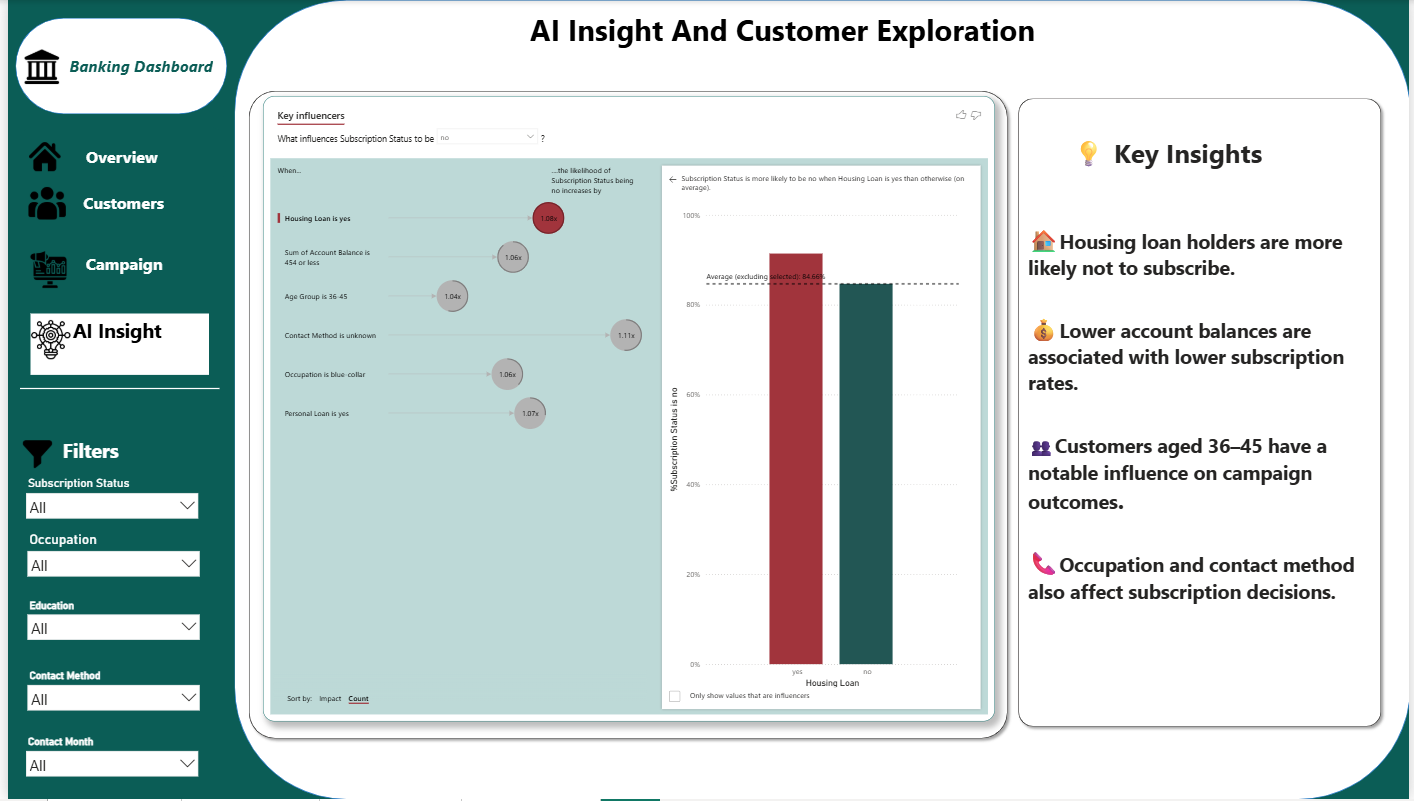

The page's visual inventory and layout, read from the dashboard file:
{"tool":"powerbi","page":{"name":"AI Insight","canvas":[2300,1310],"ordinal":3},"visuals":[{"type":"shape","box":[371.4,0,1928.1,1310.8],"z":0},{"type":"shape","box":[12.3,29.5,346.8,157.4],"z":1000},{"type":"image","box":[9.8,81.2,91,56.6],"z":2000},{"type":"shape","box":[17.2,209,339.4,93.5],"z":3000},{"type":"image","box":[27.1,231.2,66.4,51.6],"z":4000},{"type":"textbox","box":[22.1,302.5,317.3,81.2],"z":5000},{"type":"image","box":[29.5,302.5,68.9,61.5],"z":6000},{"type":"textbox","box":[27.1,408.3,319.7,88.5],"z":7000},{"type":"image","box":[27.1,408.3,78.7,66.4],"z":8000},{"type":"textbox","box":[36.9,514,292.7,100.8],"z":9000},{"type":"image","box":[36.9,511.5,66.4,91],"z":10000},{"type":"actionButton","box":[98.4,312.3,184.5,51.6],"z":11000},{"type":"actionButton","box":[93.5,415.6,186.9,51.6],"z":12000},{"type":"actionButton","box":[78.7,228.7,186.9,51.6],"z":13000},{"type":"actionButton","box":[76.2,523.8,245.9,78.7],"z":14000},{"type":"image","box":[19,710.1,57.1,65.3],"z":15000},{"type":"textbox","box":[46.3,710.1,176.9,54.4],"z":16000},{"type":"shape","box":[19.7,575.5,327.1,123],"z":17000},{"type":"slicer","fields":{"Values":["test.Subscription Status"]},"box":[19,775.4,302,89.8],"z":18000},{"type":"slicer","fields":{"Values":["test.Occupation"]},"box":[21.8,865.2,302,89.8],"z":19000},{"type":"slicer","fields":{"Values":["test.Contact Method"]},"box":[21.8,1091.1,302,89.8],"z":20000},{"type":"slicer","fields":{"Values":["test.Education"]},"box":[21.8,976.8,302,89.8],"z":21000},{"type":"slicer","fields":{"Values":["test.Contact Month"]},"box":[19,1199.9,302,89.8],"z":22000},{"type":"shape","box":[1647.8,152.5,612.4,1047.7],"z":23000},{"type":"shape","box":[386.1,140.2,1261.7,1079.7],"z":24000},{"type":"keyDriversVisual","fields":{"Target":["test.Subscription Status"],"ExplainBy":["test.Age Group","Sum(test.Account Balance)","test.Contact Method","test.Education","test.Personal Loan","test.Occupation","test.Housing Loan"]},"box":[418.1,157.4,1200.2,1025.6],"z":25000},{"type":"textbox","box":[850.9,9.8,1148.5,81.2],"z":25001},{"type":"textbox","box":[1667.5,179.5,592.7,956.7],"z":25002}]}

Visuals, with their boxes in screenshot pixels (x1, y1, x2, y2), scaled from the page's 2300x1310 canvas onto the 1414x801 screenshot:
shape: box=[228, 0, 1413, 800]
shape: box=[8, 18, 221, 114]
image: box=[6, 50, 62, 84]
shape: box=[11, 128, 219, 185]
image: box=[17, 141, 57, 173]
textbox: box=[14, 185, 209, 235]
image: box=[18, 185, 60, 223]
textbox: box=[17, 250, 213, 304]
image: box=[17, 250, 65, 290]
textbox: box=[23, 314, 203, 376]
image: box=[23, 313, 64, 368]
actionButton: box=[60, 191, 174, 223]
actionButton: box=[57, 254, 172, 286]
actionButton: box=[48, 140, 163, 171]
actionButton: box=[47, 320, 198, 368]
image: box=[12, 434, 47, 474]
textbox: box=[28, 434, 137, 467]
shape: box=[12, 352, 213, 427]
slicer - test.Subscription Status: box=[12, 474, 197, 529]
slicer - test.Occupation: box=[13, 529, 199, 584]
slicer - test.Contact Method: box=[13, 667, 199, 722]
slicer - test.Education: box=[13, 597, 199, 652]
slicer - test.Contact Month: box=[12, 734, 197, 789]
shape: box=[1013, 93, 1390, 734]
shape: box=[237, 86, 1013, 746]
keyDriversVisual - test.Subscription Status x test.Age Group: box=[257, 96, 995, 723]
textbox: box=[523, 6, 1229, 56]
textbox: box=[1025, 110, 1390, 695]
